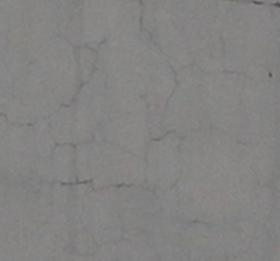fissura: (24, 41, 207, 231)
